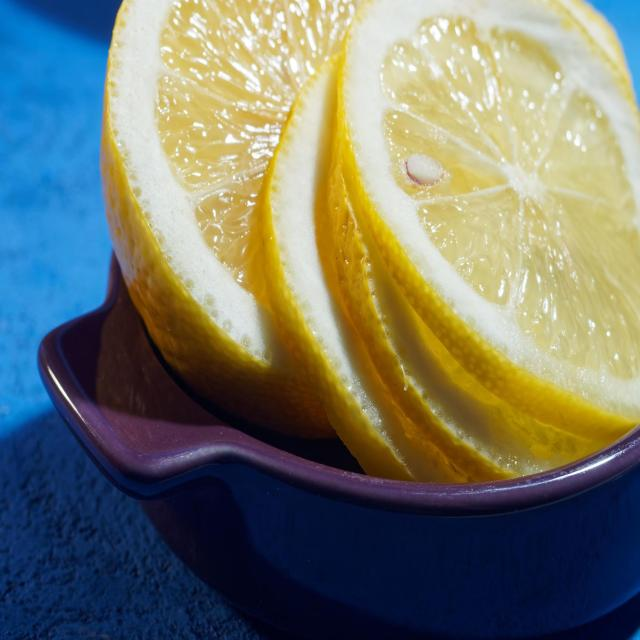lemon: (91, 0, 640, 537)
